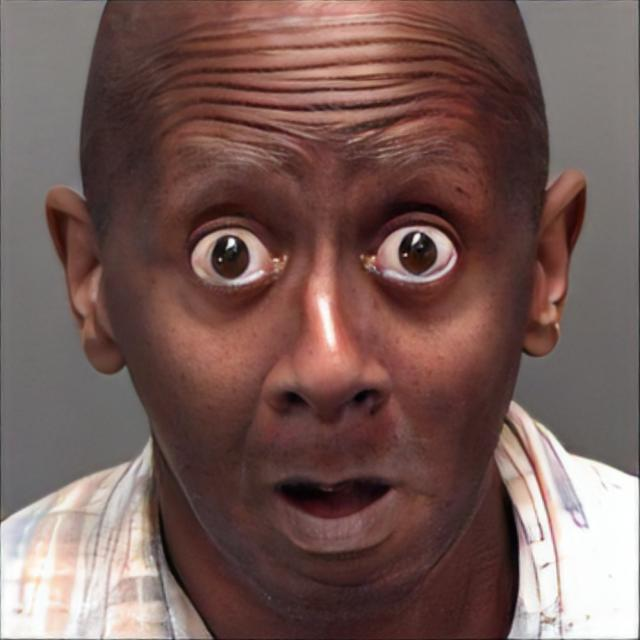fear: (79, 0, 554, 619)
